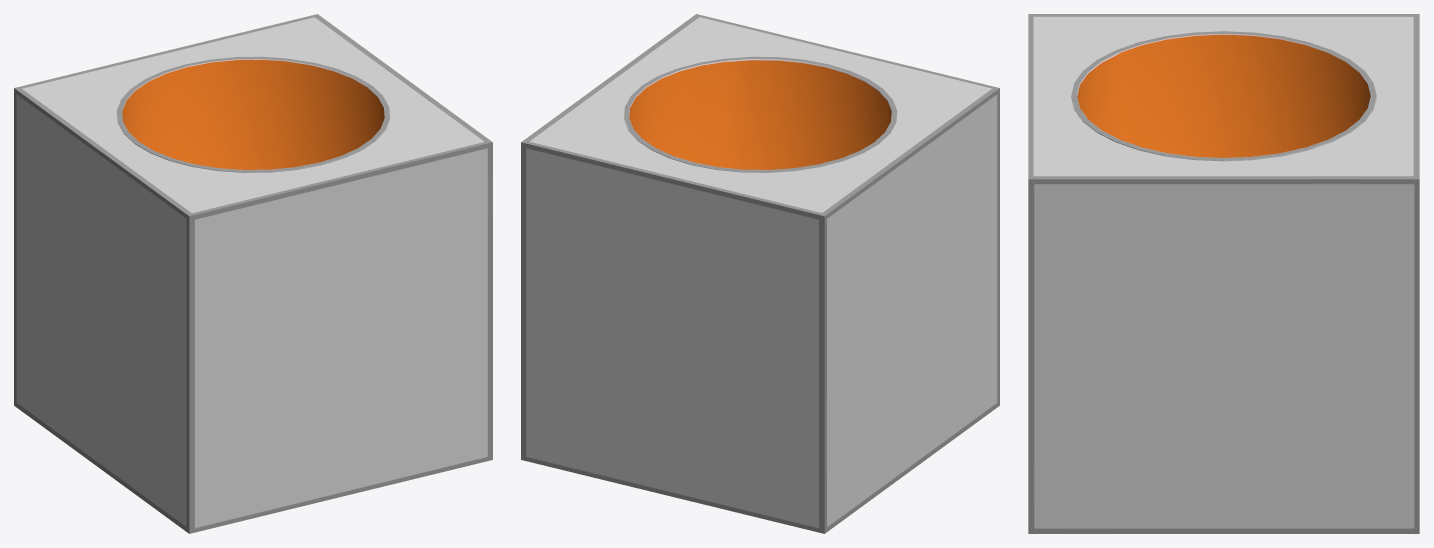
Rendered from finish.fbx.
The picture shows the model from 3 angles, left to right: view 1: azimuth 30°, elevation 25°; view 2: azimuth 150°, elevation 25°; view 3: azimuth 270°, elevation 25°; orthographic projection. The views are drawn at different scales.
Parts seen in each view (by area): view 1: finish; view 2: finish; view 3: finish.
Boxes of the visible parts, <box> form: finish: <box>14,14,492,533</box>; finish: <box>521,14,999,533</box>; finish: <box>1028,14,1419,533</box>.
Bounding box in the file's own units: 300 × 301 × 300.
Materials: 1 (1 with a texture image).
